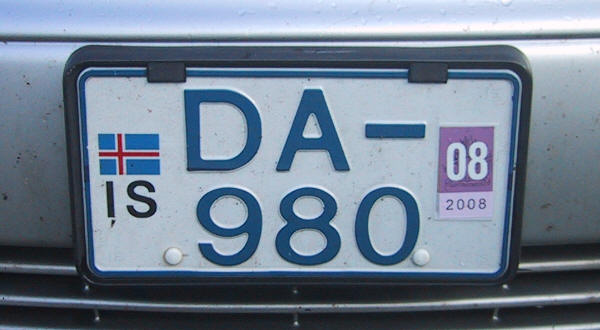license_plate: (79, 68, 520, 280)
